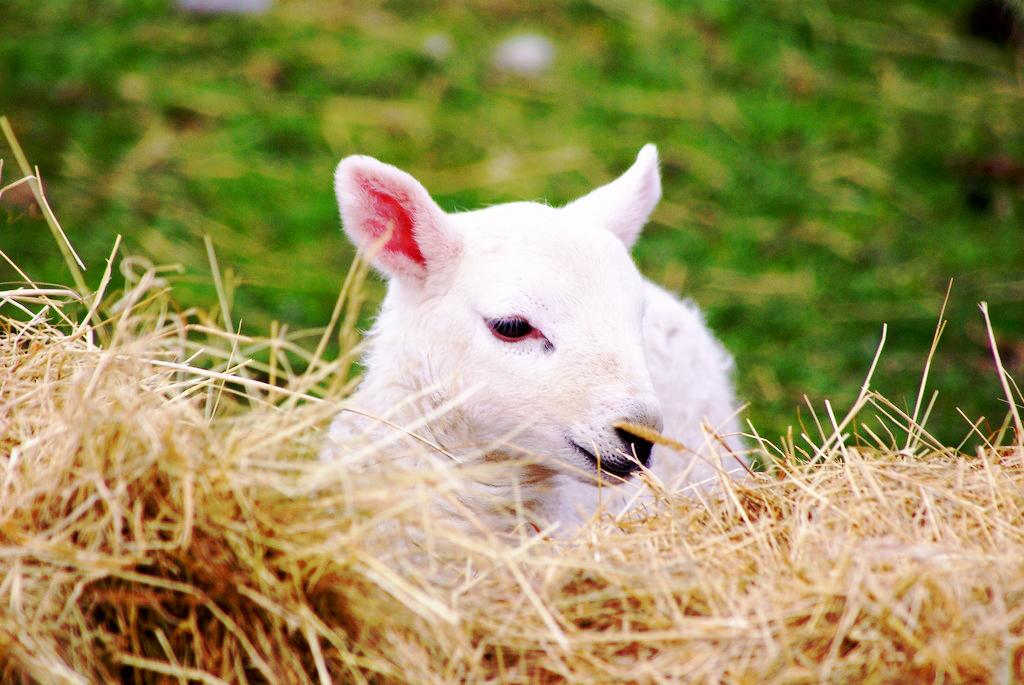Sheep: (233, 136, 780, 552)
